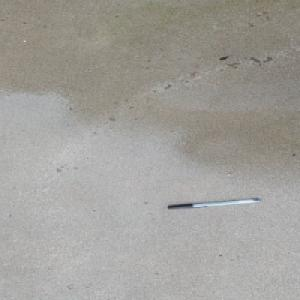Pen: (166, 198, 262, 209)
